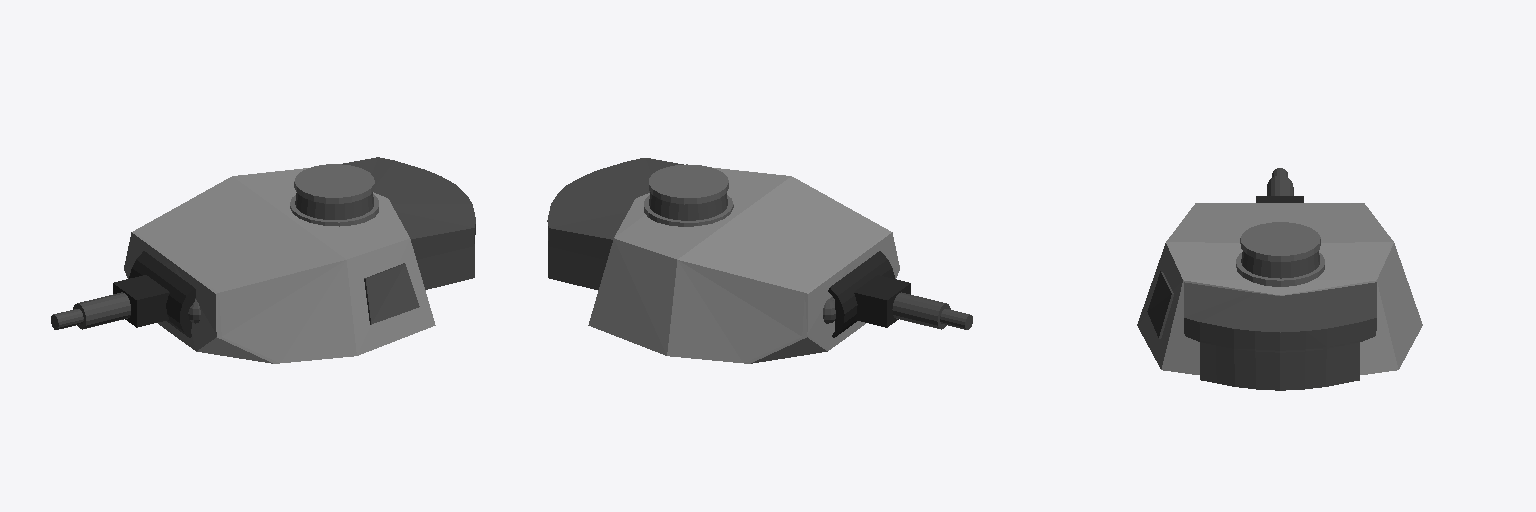
Rendered from tankturrent00.obj.
The picture shows the model from 3 angles: view 1: azimuth 30°, elevation 25°; view 2: azimuth 150°, elevation 25°; view 3: azimuth 270°, elevation 25°; orthographic projection.
Parts seen in each view (by area): view 1: Box034, Box035, Cylinder004, Box037, Cylinder006, Box036, Cylinder007, Cone001, Cylinder003; view 2: Box034, Box035, Cylinder004, Cylinder006, Box036, Cylinder007, Cone001, Cylinder003; view 3: Box034, Box035, Cylinder004, Cone001, Box037, Cylinder003.
Boxes of the visible parts, x1=… form: Box034: x1=124, y1=168, x2=435, y2=363; Box035: x1=342, y1=157, x2=475, y2=289; Cylinder004: x1=294, y1=164, x2=374, y2=203; Box037: x1=364, y1=263, x2=419, y2=324; Cylinder006: x1=129, y1=251, x2=195, y2=337; Box036: x1=113, y1=275, x2=169, y2=327; Cylinder007: x1=73, y1=292, x2=130, y2=329; Cone001: x1=295, y1=192, x2=373, y2=219; Cylinder003: x1=290, y1=194, x2=378, y2=226; Box034: x1=588, y1=168, x2=899, y2=363; Box035: x1=547, y1=158, x2=683, y2=289; Cylinder004: x1=649, y1=164, x2=728, y2=204; Cylinder006: x1=828, y1=251, x2=894, y2=337; Box036: x1=854, y1=275, x2=910, y2=327; Cylinder007: x1=892, y1=292, x2=950, y2=329; Cone001: x1=649, y1=192, x2=727, y2=220; Cylinder003: x1=644, y1=195, x2=733, y2=226; Box034: x1=1137, y1=203, x2=1422, y2=374; Box035: x1=1184, y1=282, x2=1376, y2=390; Cylinder004: x1=1240, y1=222, x2=1320, y2=261; Cone001: x1=1241, y1=251, x2=1319, y2=278; Box037: x1=1147, y1=271, x2=1173, y2=338; Cylinder003: x1=1236, y1=253, x2=1324, y2=286.
Bounding box in the file's own units: 69.1 × 18.2 × 42.53.